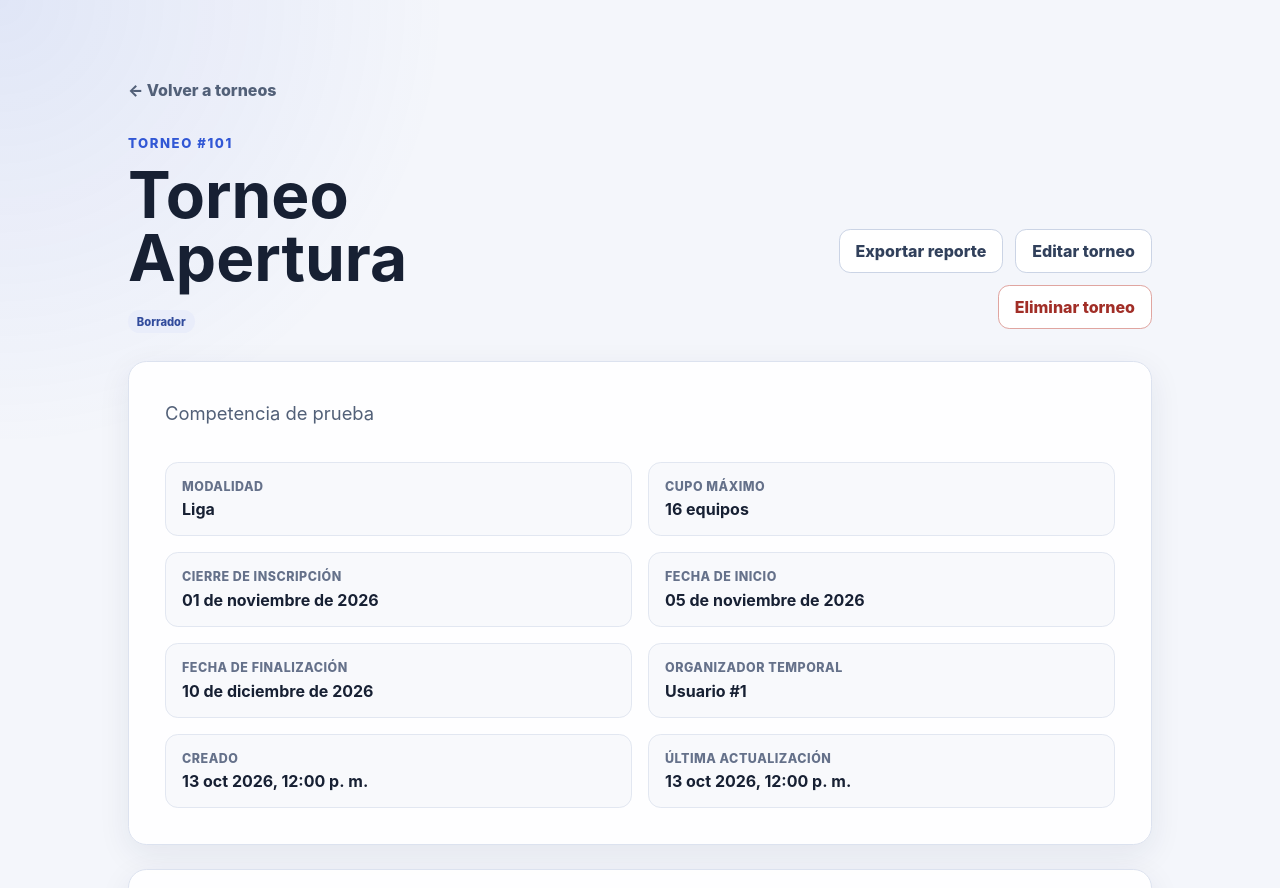
Test: TournamentDetailPage › muestra el conflicto si el estado cambia antes del borrado
Step 1. Click the button "Eliminar torneo" → x=1075, y=307, box [998,285,1152,330]
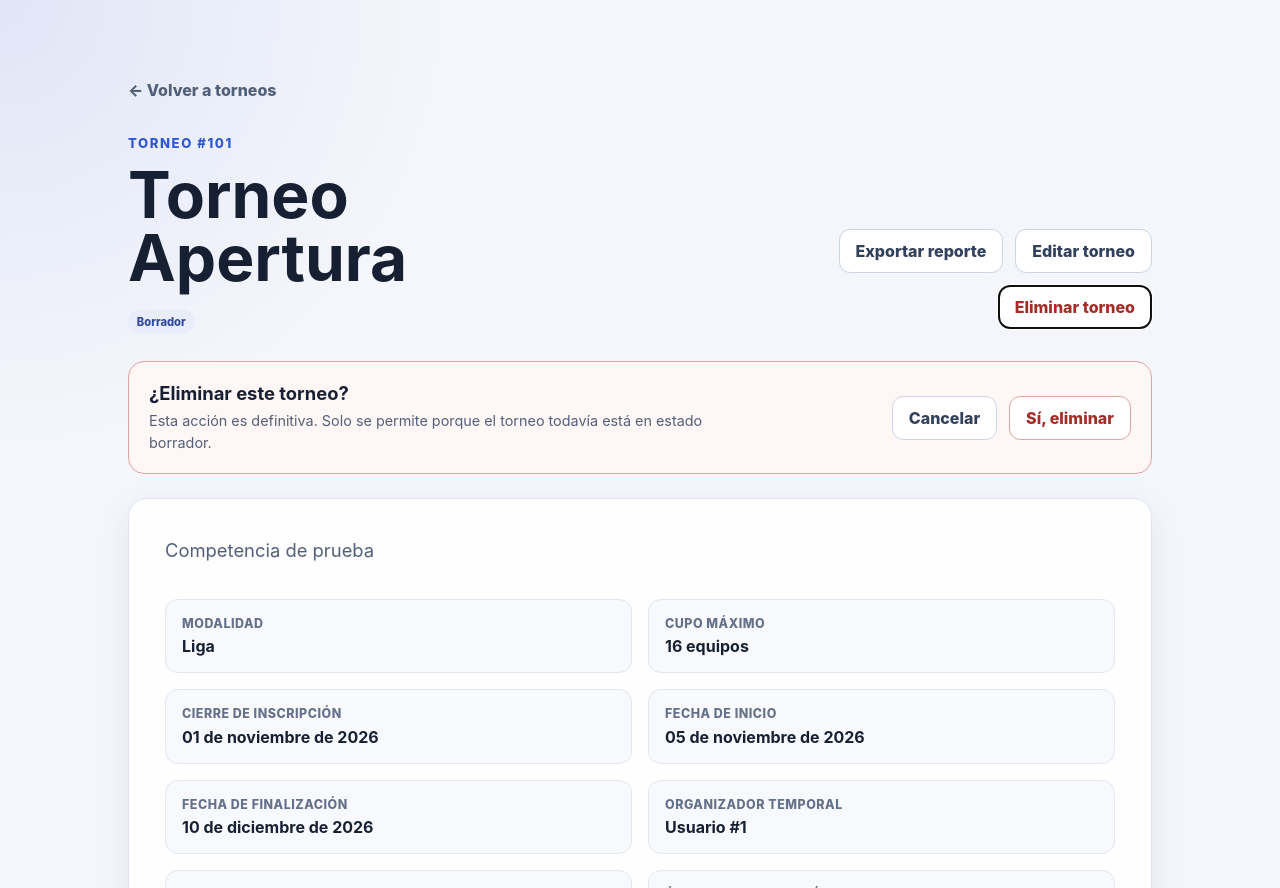
Step 2. Click the button "Sí, eliminar" → x=1070, y=418, box [1009,396,1131,440]
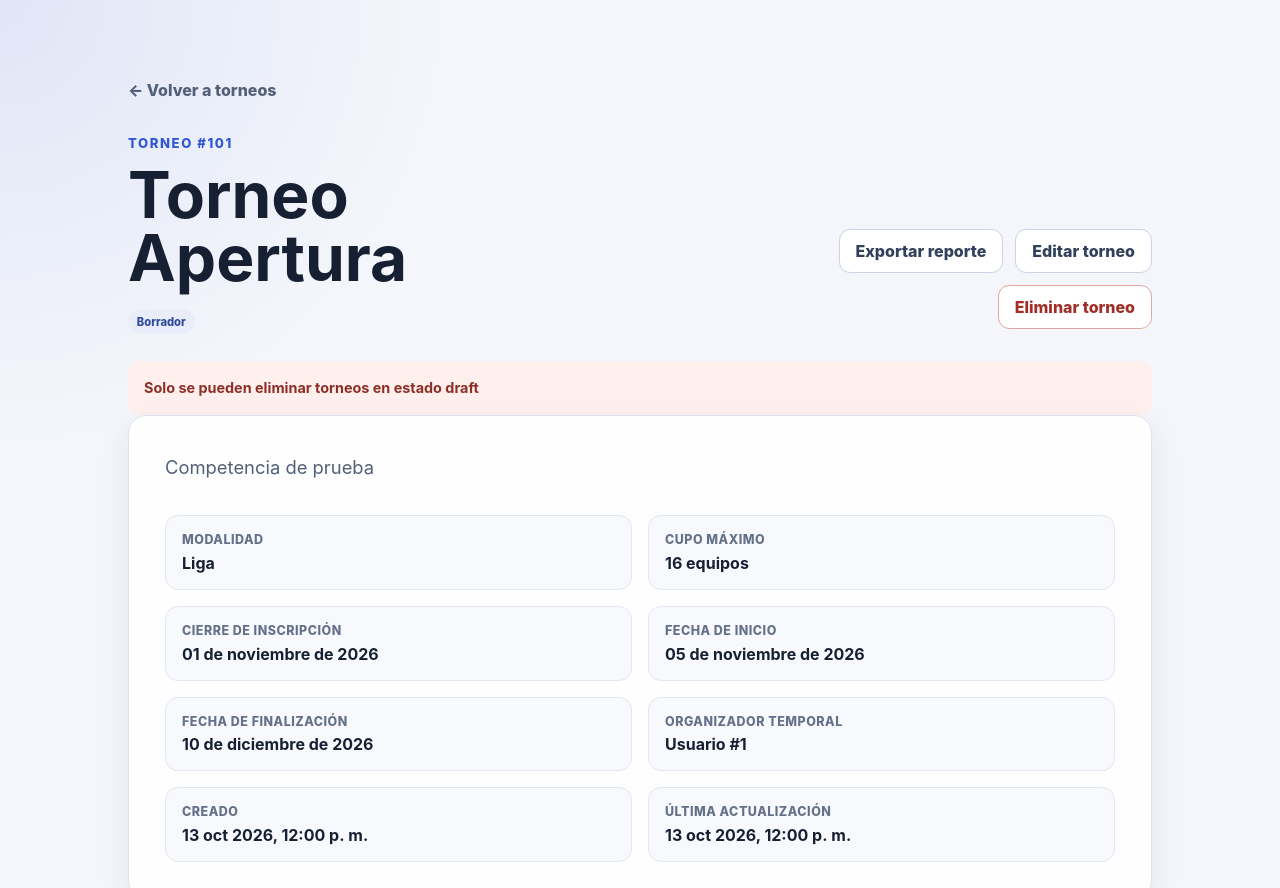
Now the message reads "Solo se pueden eliminar torneos en estado draft", box [144,379,479,396]
